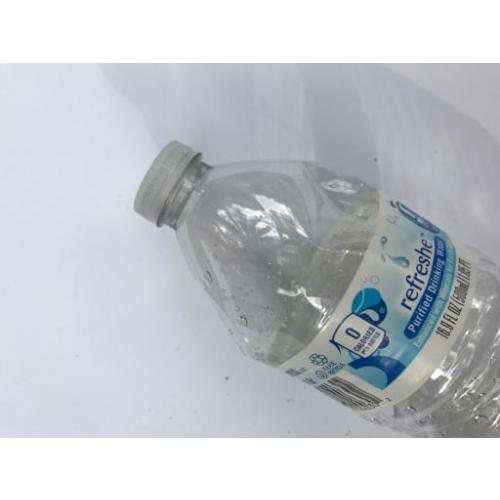plastic: (131, 138, 499, 437)
